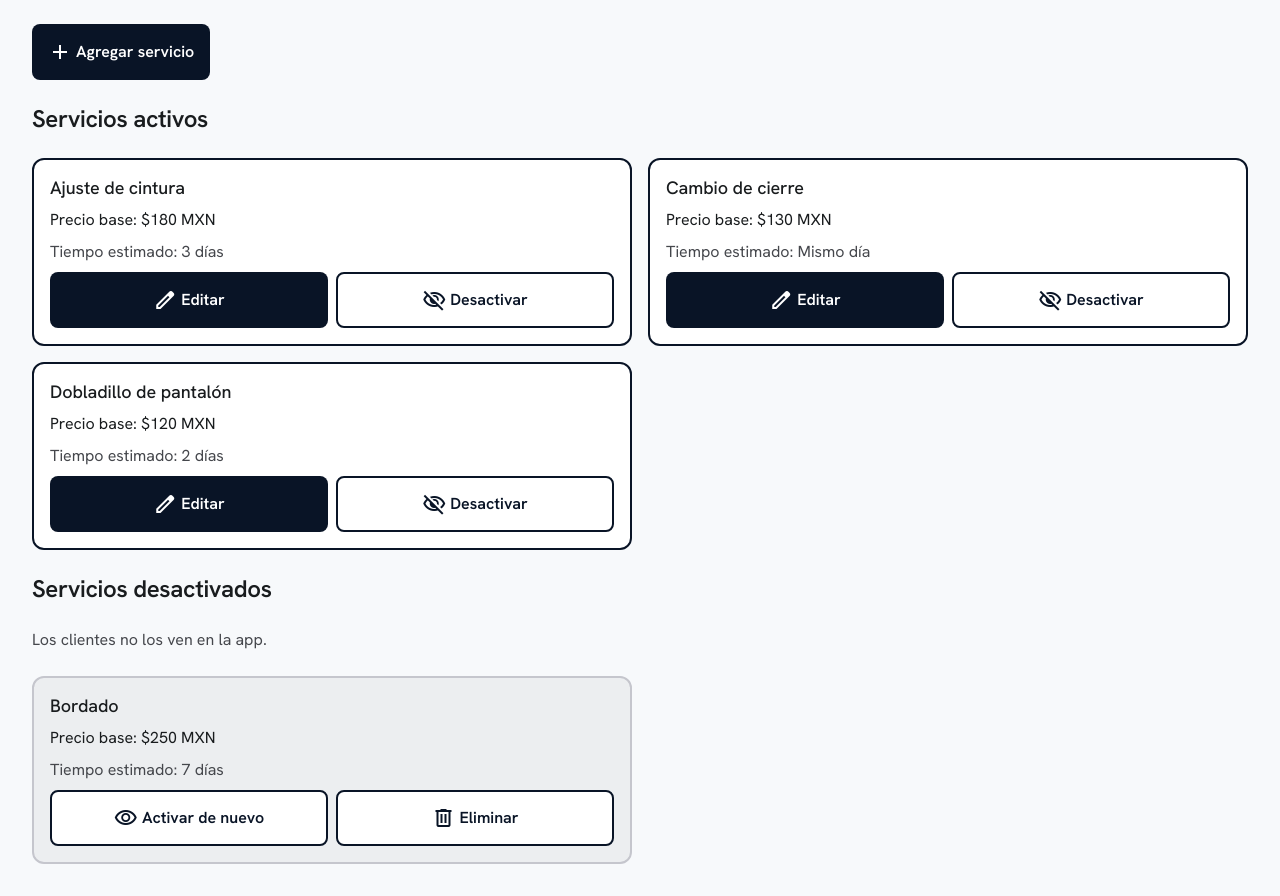
Test: Delete a deactivated service › deletes a deactivated service for good once confirmed
The width and height of the screenshot is (1280, 896).
(page scrolled)
Click the button "Eliminar" at (475, 818), box [336,790,614,846]
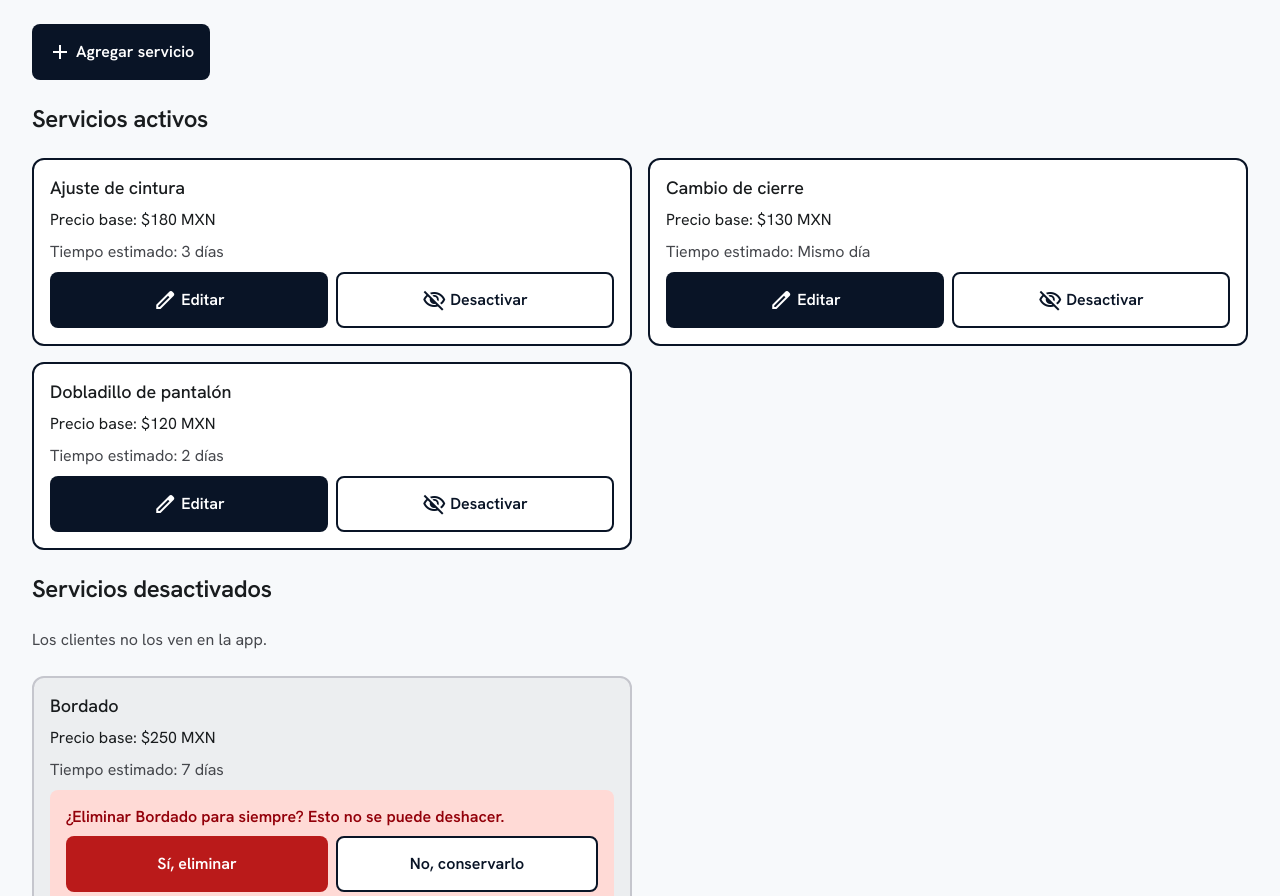
Now the text "¿Eliminar Bordado para siempre? Esto no se puede deshacer." is shown, box [66,806,504,827]
Click the button "Sí, eliminar" at (197, 864), box [66,836,328,892]
(page scrolled)
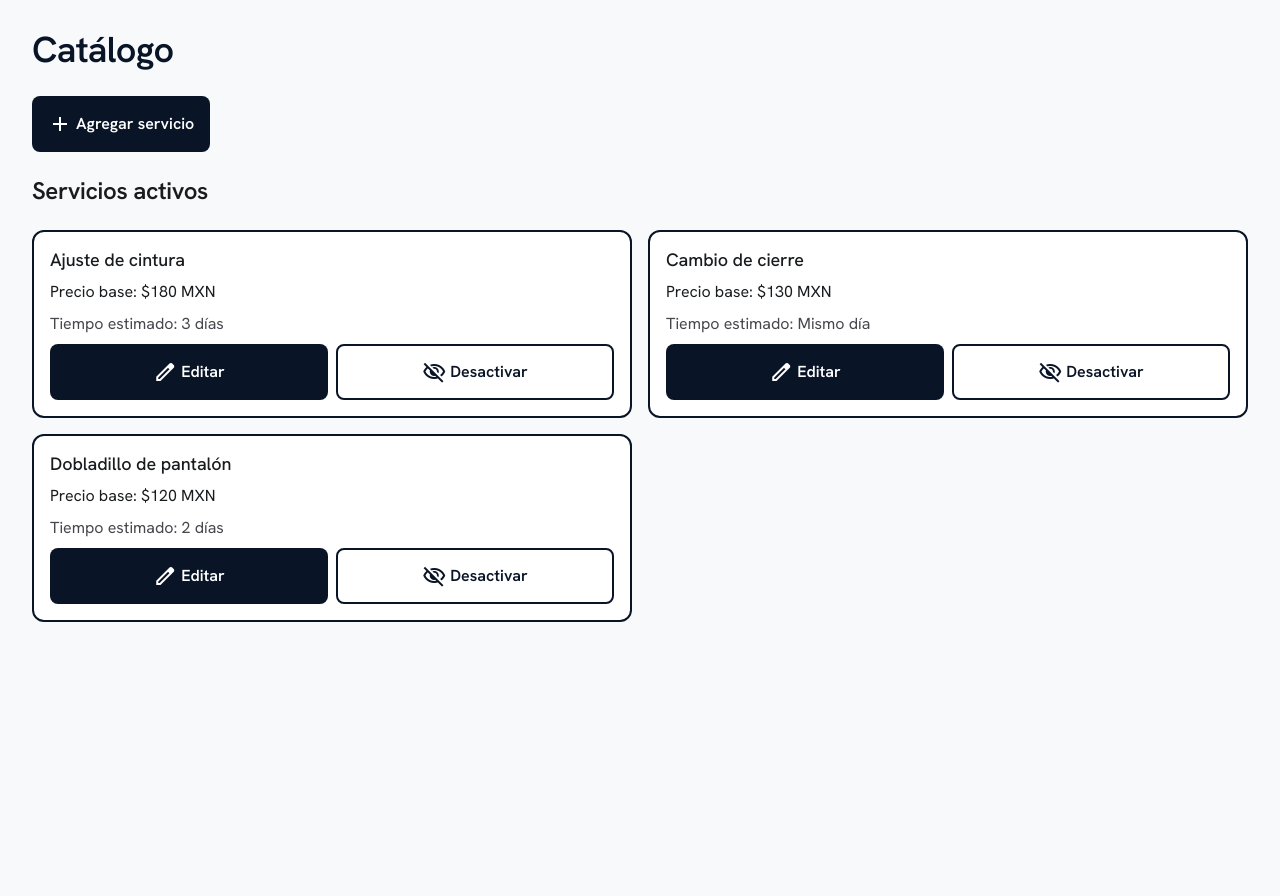
Now the heading "Bordado" is gone
Now the list named "Servicios activos" no longer shows "Bordado", box [32,230,1248,622]
